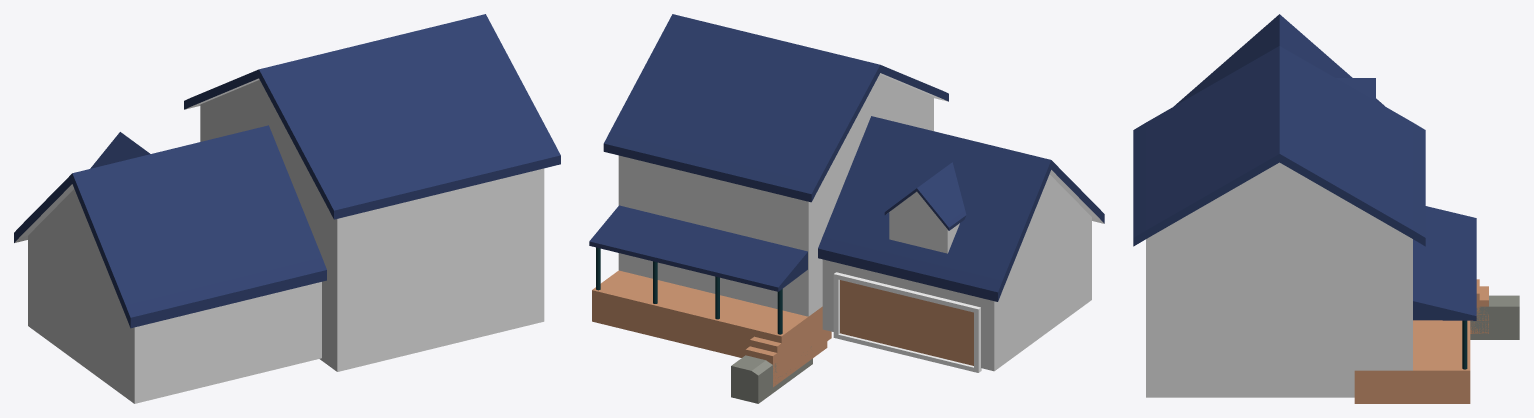
Rendered from CasaCalle.fbx.
3 renders of one model, left to right at view 1: azimuth 30°, elevation 25°; view 2: azimuth 150°, elevation 25°; view 3: azimuth 270°, elevation 25°, orthographic. The views are drawn at different scales.
Parts seen in each view (by area): view 1: Cube.004, Cube, Cube.003; view 2: Cube.004, Cube, Cube.005, Cube.001, Cube.010, Cube.003, Cube.009, Cube.008, Cube.007, Cube.006; view 3: Cube.004, Cube.005, Cube.001, Cube, Cube.008, Cube.003, Cube.007.
Part boxes in pixels (bbox=[...]): Cube.004: bbox=[184, 14, 560, 371]; Cube: bbox=[14, 125, 326, 403]; Cube.003: bbox=[90, 132, 150, 168]; Cube.004: bbox=[603, 14, 948, 316]; Cube: bbox=[818, 116, 1104, 371]; Cube.005: bbox=[592, 270, 830, 367]; Cube.001: bbox=[589, 205, 807, 291]; Cube.010: bbox=[840, 280, 973, 365]; Cube.003: bbox=[884, 162, 966, 253]; Cube.009: bbox=[833, 272, 981, 372]; Cube.008: bbox=[731, 346, 812, 403]; Cube.007: bbox=[745, 335, 827, 387]; Cube.006: bbox=[750, 331, 831, 377]; Cube.004: bbox=[1133, 46, 1425, 397]; Cube.005: bbox=[1354, 320, 1470, 403]; Cube.001: bbox=[1413, 206, 1476, 320]; Cube: bbox=[1174, 14, 1384, 106]; Cube.008: bbox=[1470, 295, 1519, 339]; Cube.003: bbox=[1336, 78, 1375, 100]; Cube.007: bbox=[1470, 286, 1488, 333].
Size of the model in its own units: 667 by 804 by 525.
1 material, 1 textured.
